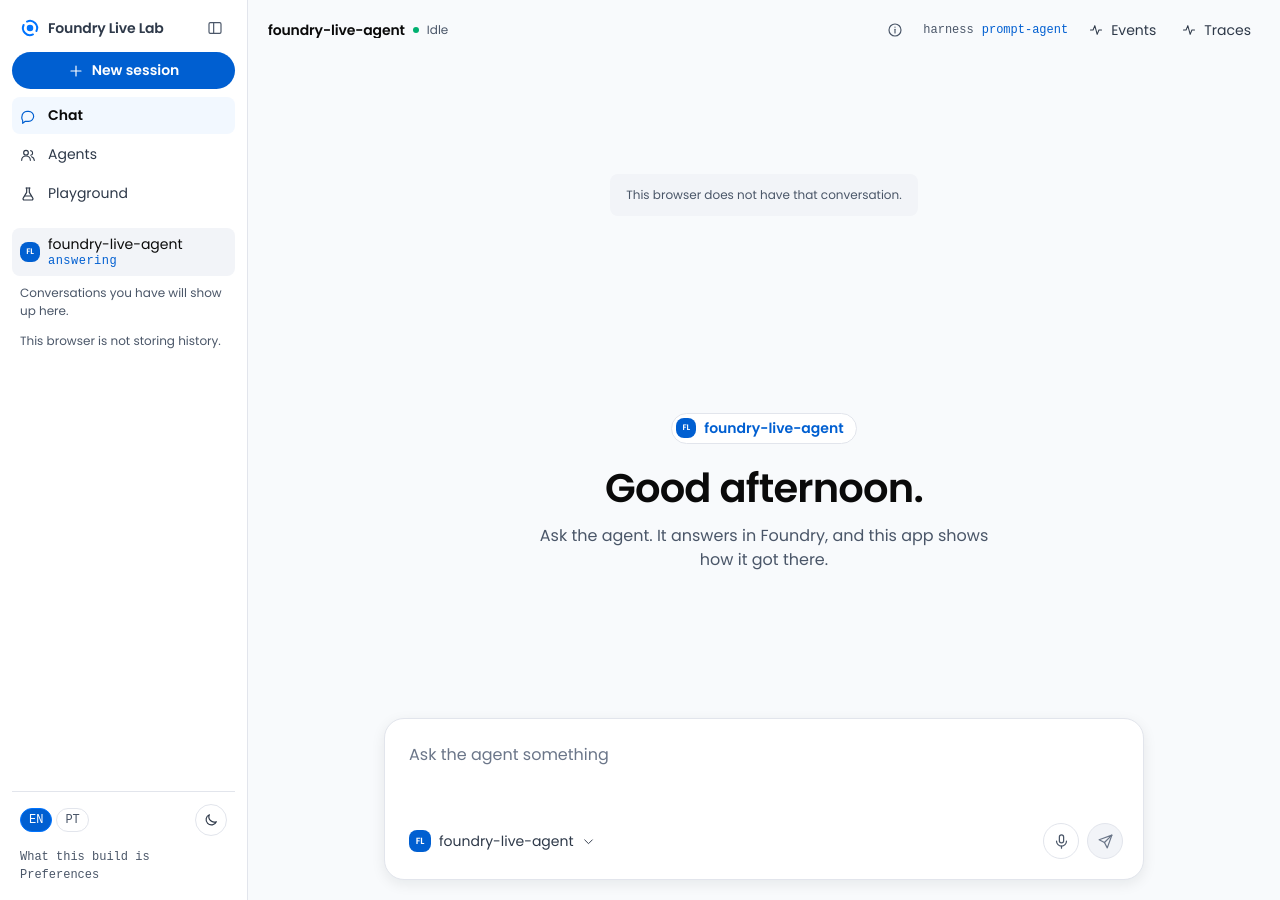
Test case: a browser that refuses storage (AC20) › still renders, still streams, and says history is not being kept
Type "what time is it" into the text box labelled "Ask the agent something".
click(764, 775); type("what time is it")  # box x1=401 y1=735 x2=1127 y2=815
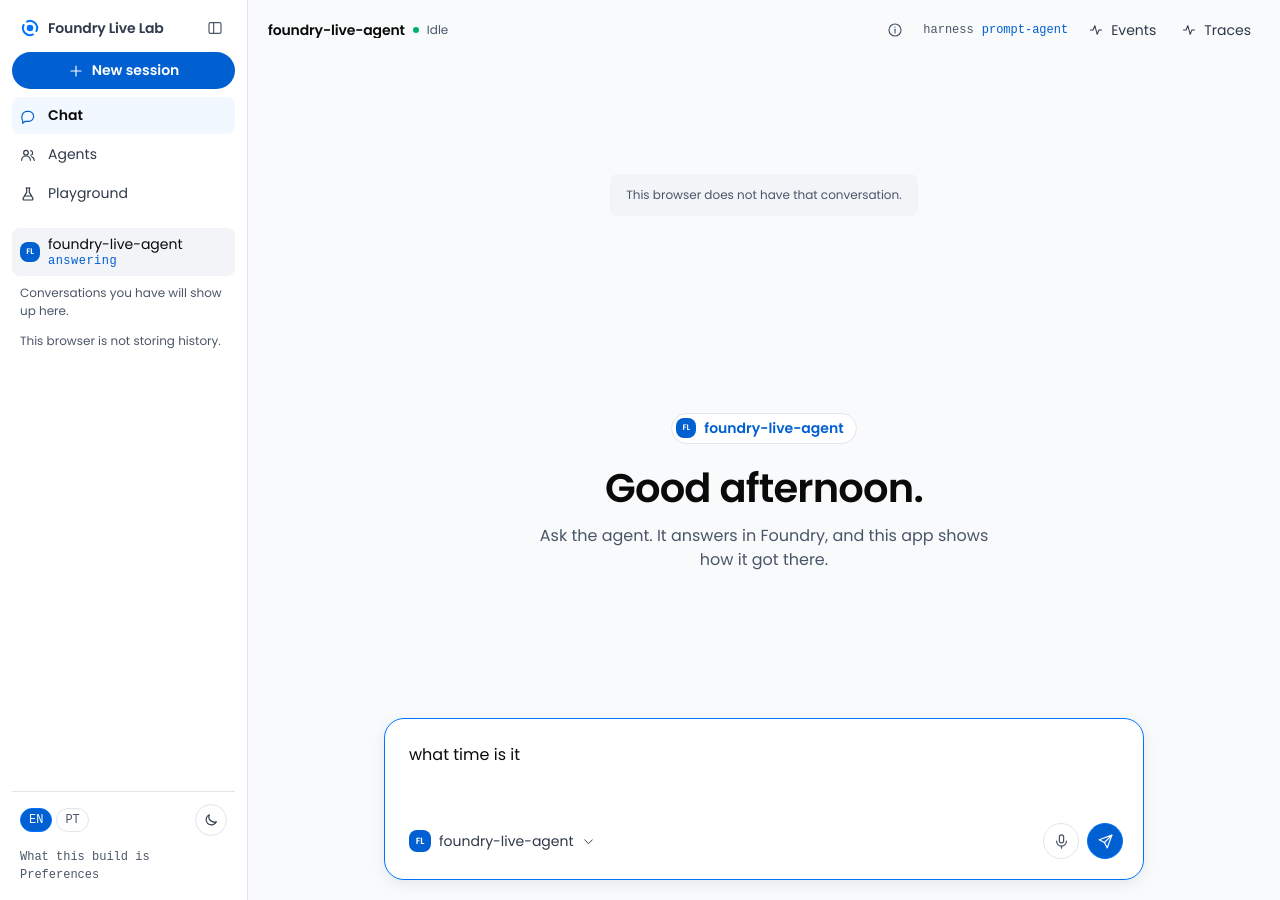
Click the button named "Send".
click(1105, 841)  # box x1=1087 y1=823 x2=1123 y2=859
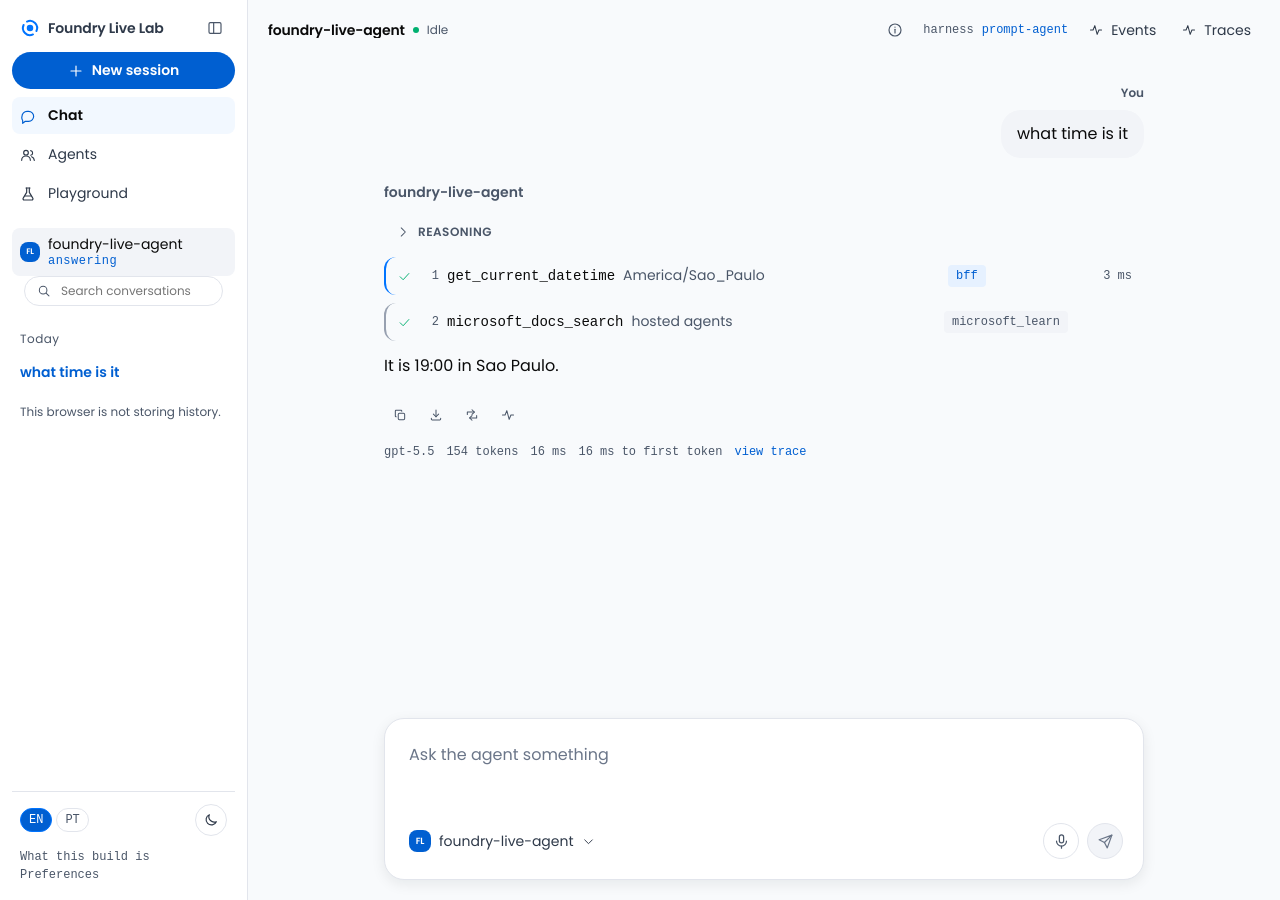
Expected: the text "This browser is not storing history." is shown, x1=12 y1=403 x2=235 y2=421
Expected: the element with test id "answer" shows "19:00 in Sao Paulo", x1=384 y1=354 x2=559 y2=377
